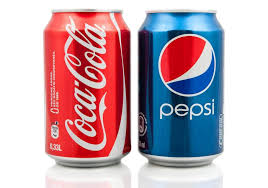Coca-Cola: (41, 5, 130, 169)
Pepsi: (137, 5, 225, 169)
